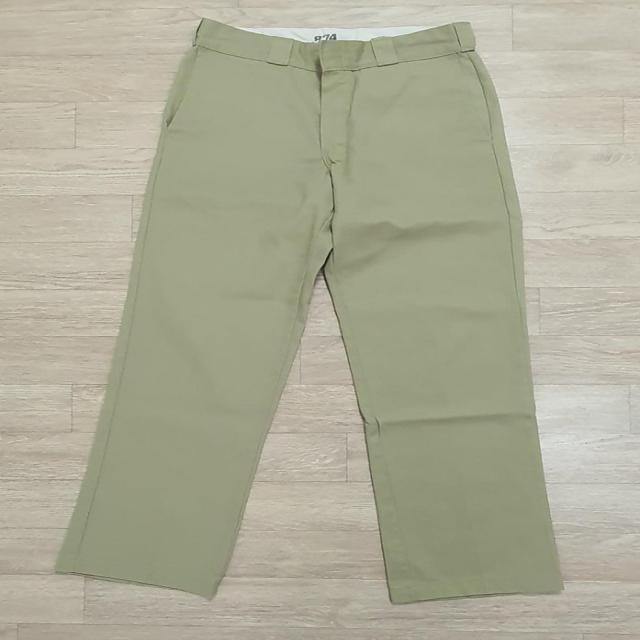long-pants: (49, 12, 566, 606)
